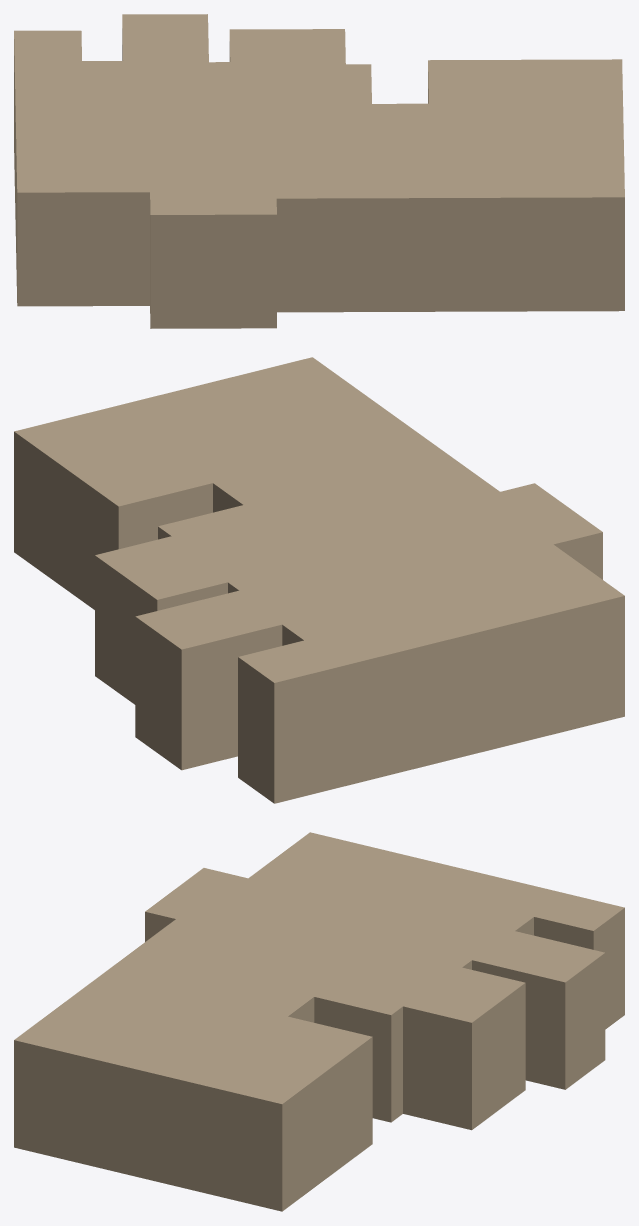
File: bld_977330737.dae
3 views of the same model, one above another, from view 1: azimuth 30°, elevation 25°; view 2: azimuth 150°, elevation 25°; view 3: azimuth 270°, elevation 25° (orthographic). The views are drawn at different scales.
Visible parts, largest first — view 1: bld_977330737; view 2: bld_977330737; view 3: bld_977330737.
Boxes of the visible parts, x1,y1,x2,y2 form: bld_977330737: (14,14,624,328); bld_977330737: (14,357,624,803); bld_977330737: (14,832,624,1211).
Bounding box in the file's own units: 65.15 × 61.85 × 12.
